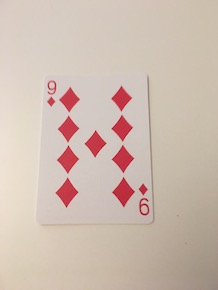NineOfDiamonds: (36, 71, 159, 228)
